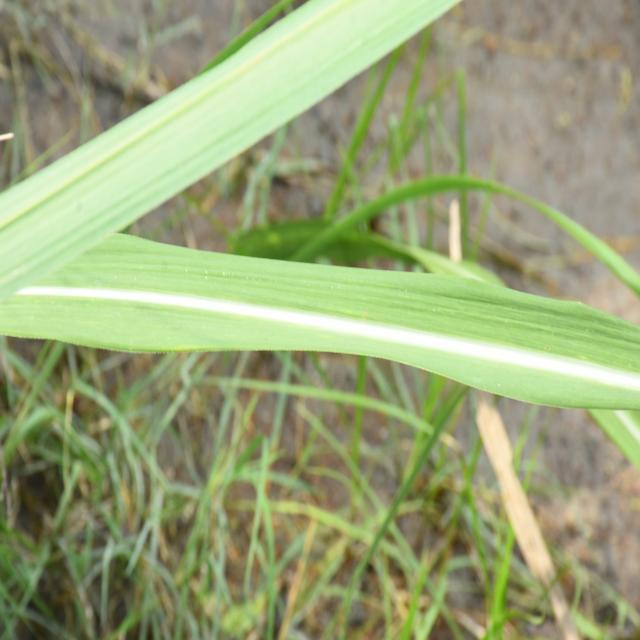Sugarcane: (0, 232, 640, 411)
